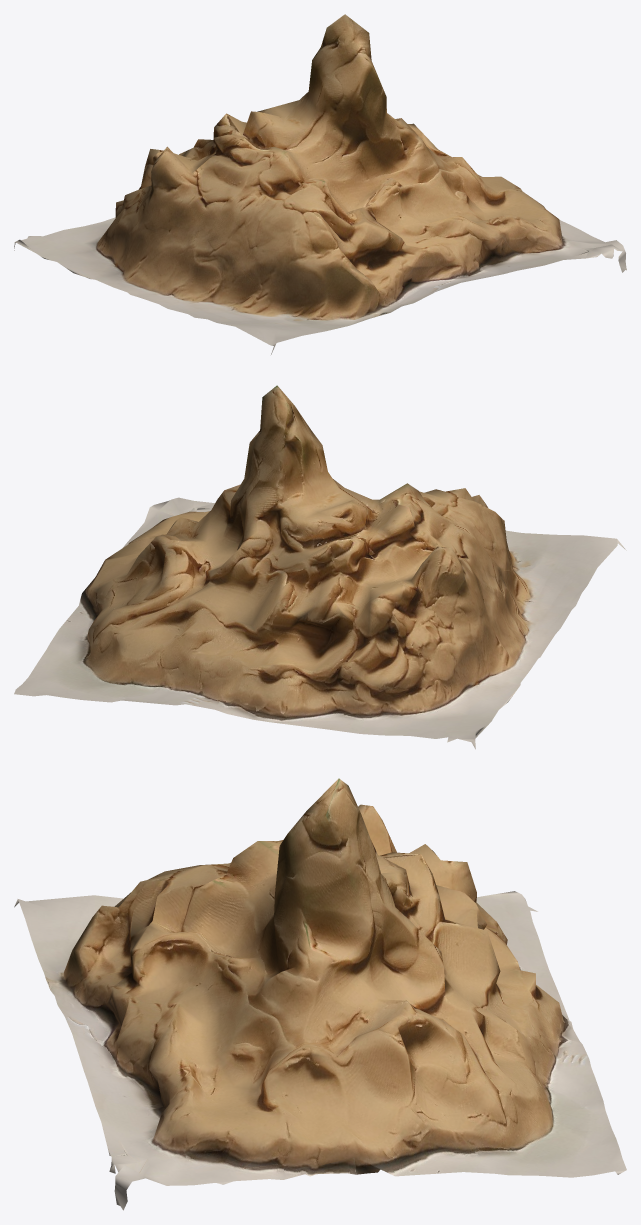
File: GPGre_MamanLOD19.fbx
3 renders of one model, top to bottom at view 1: azimuth 30°, elevation 25°; view 2: azimuth 150°, elevation 25°; view 3: azimuth 270°, elevation 25°, orthographic. The views are drawn at different scales.
Visible parts, largest first — view 1: Model; view 2: Model; view 3: Model.
Boxes of the visible parts, x1=… form: Model: x1=14, y1=14, x2=626, y2=354; Model: x1=14, y1=385, x2=626, y2=749; Model: x1=14, y1=778, x2=626, y2=1210.
Bounding box in the file's own units: 2.35 × 1.2 × 2.14.
